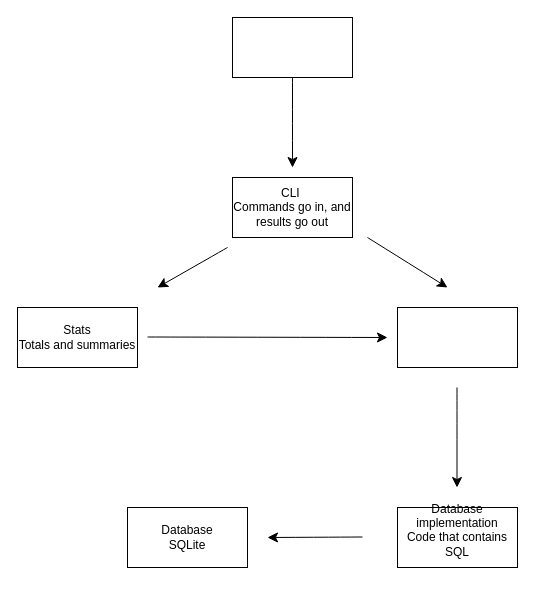
The diagram is 535 pixels wide and 591 high, and some of its shapes have lost their labels. Each missing label, with the centre of its shape:
"Repository Interface Interface" goes at point (457, 337).
"User" goes at point (292, 47).
